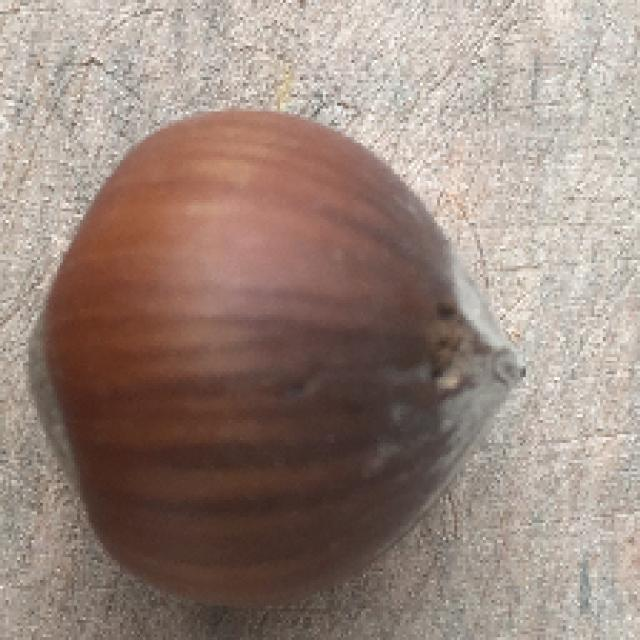DamagedHazelnut: (22, 115, 524, 602)
